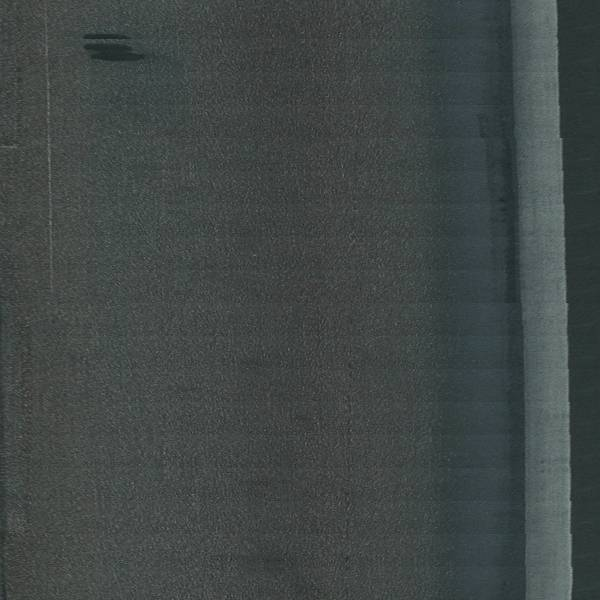road_damage: (82, 29, 148, 66)
